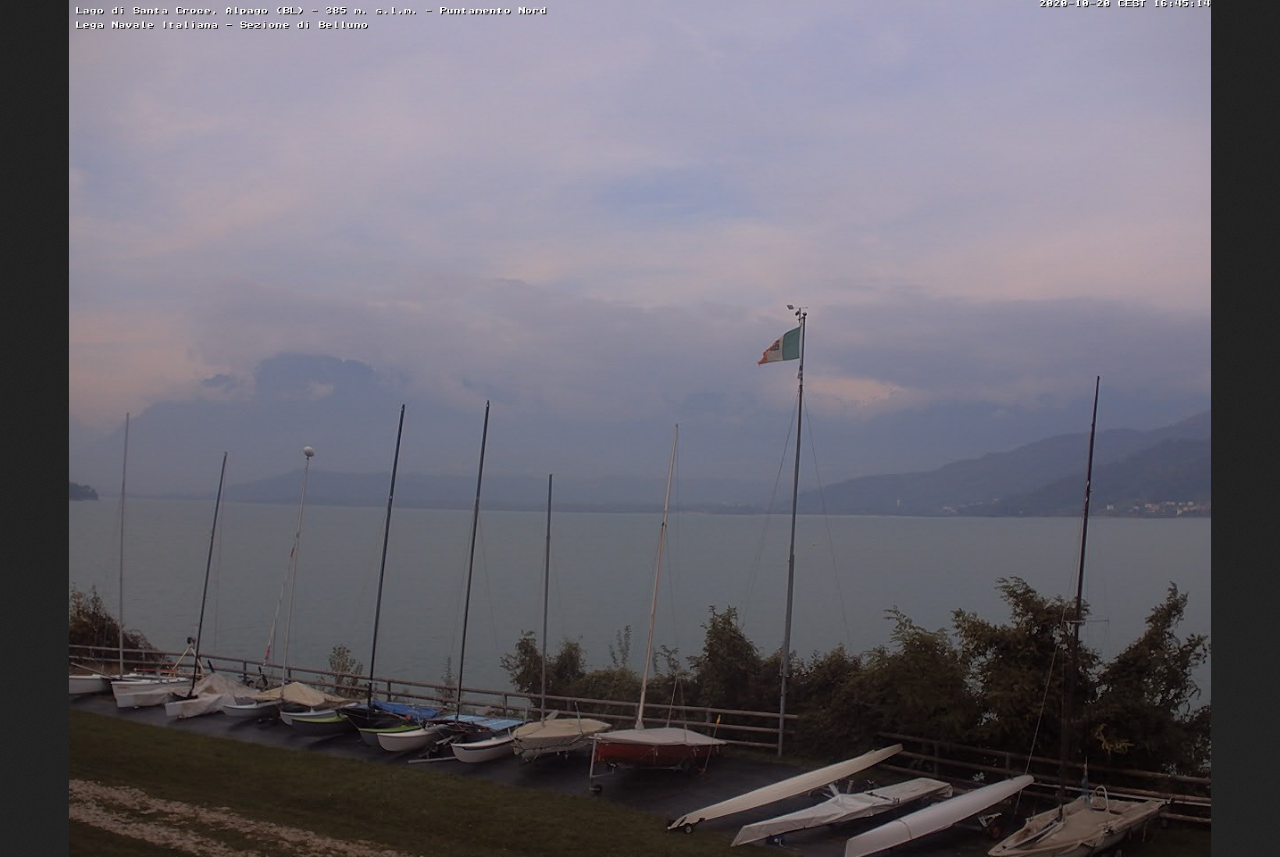yes: (754, 327, 797, 368)
